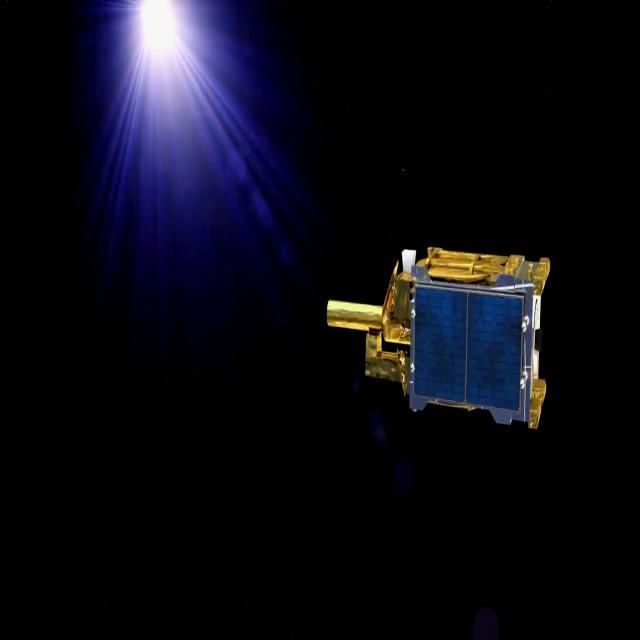medium_debris: (312, 203, 570, 440)
